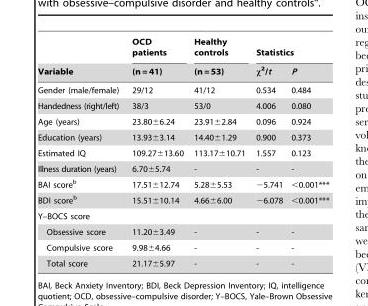table: (37, 37, 328, 267)
table column: (37, 37, 124, 267), (124, 37, 188, 267), (188, 37, 249, 267), (286, 37, 328, 267), (249, 37, 286, 267)
table column header: (37, 37, 328, 80)
table projected row header: (37, 208, 328, 223)
table row: (37, 37, 328, 60), (37, 60, 328, 80), (37, 80, 328, 97), (37, 191, 328, 208), (37, 97, 328, 113), (37, 113, 328, 129), (37, 144, 328, 160), (37, 175, 328, 191), (37, 223, 328, 239), (37, 239, 328, 255), (37, 129, 328, 144), (37, 160, 328, 175), (37, 208, 328, 223), (37, 255, 328, 267)
table spanning cell: (37, 37, 124, 80), (124, 37, 188, 80), (188, 37, 249, 80), (249, 37, 328, 60)
